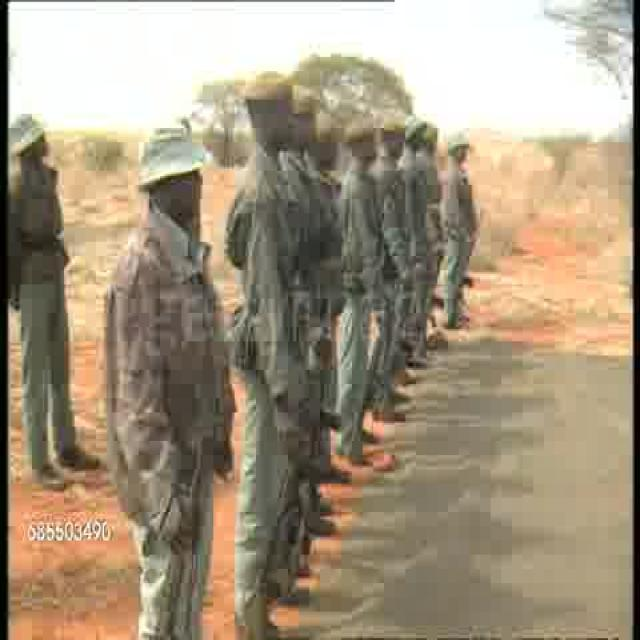poacher: (94, 111, 218, 630), (226, 61, 306, 630), (9, 107, 71, 490), (347, 118, 377, 462), (316, 90, 343, 470), (376, 123, 414, 393), (451, 110, 476, 334), (417, 117, 440, 329)
